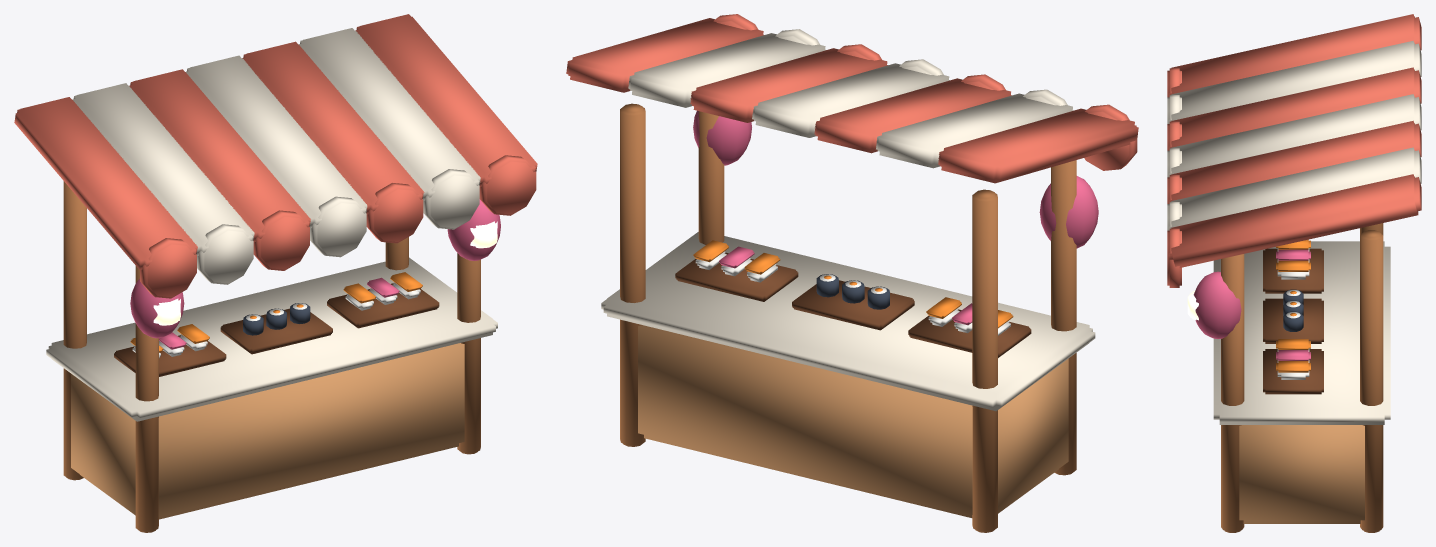
Rendered from MarketStall_Sushi.fbx.
3 renders of one model, left to right at view 1: azimuth 30°, elevation 25°; view 2: azimuth 150°, elevation 25°; view 3: azimuth 270°, elevation 25°, orthographic. The views are drawn at different scales.
Parts seen in each view (by area): view 1: MarketStall_Sushi; view 2: MarketStall_Sushi; view 3: MarketStall_Sushi.
Boxes of the visible parts, x1=… form: MarketStall_Sushi: x1=14, y1=14, x2=537, y2=532; MarketStall_Sushi: x1=566, y1=14, x2=1138, y2=532; MarketStall_Sushi: x1=1167, y1=14, x2=1421, y2=532.
Size of the model in its own units: 3.05 by 2.65 by 1.75.
